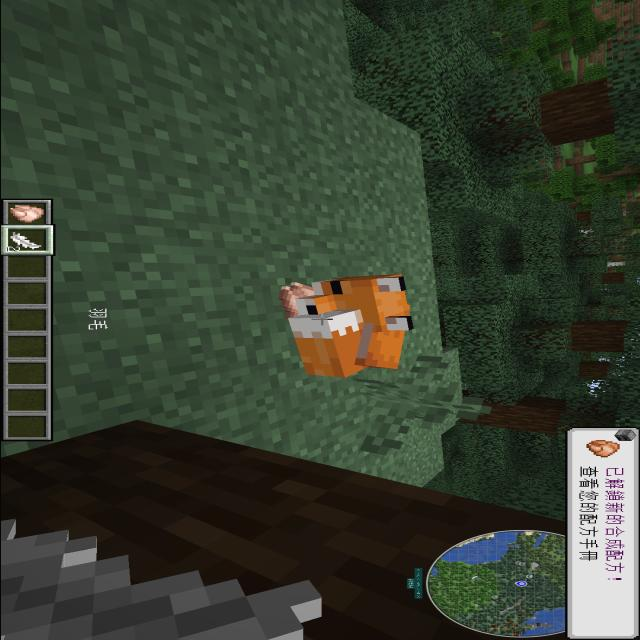Fox: (274, 258, 432, 386)
